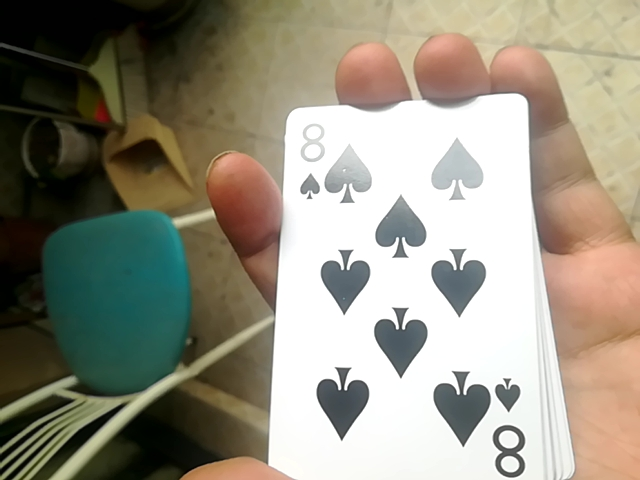ht 8: (267, 92, 557, 475)
